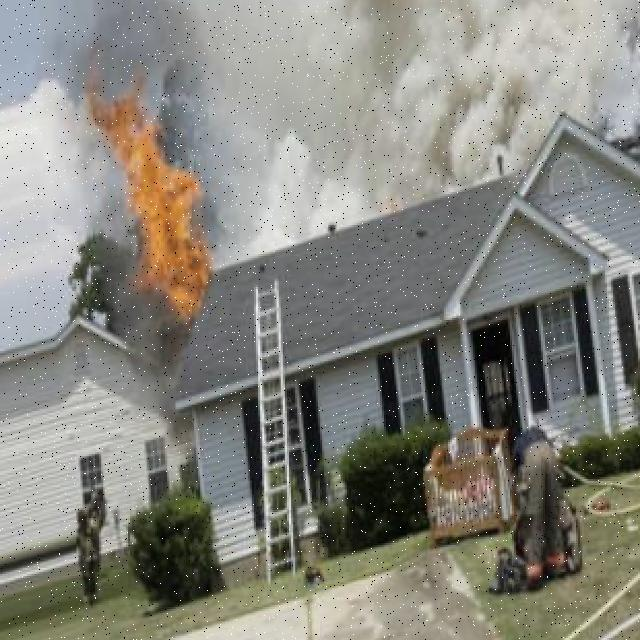fire: (97, 91, 211, 312)
smoke: (225, 0, 624, 165)
